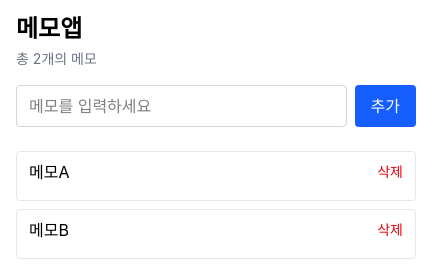
Test: App 한 번에 한 메모만 편집 › App should save the edited text of memo B when Enter is pressed after switching from memo A
The width and height of the screenshot is (433, 278).
Double-click the text "메모A": (49, 172) [29,160,70,184]
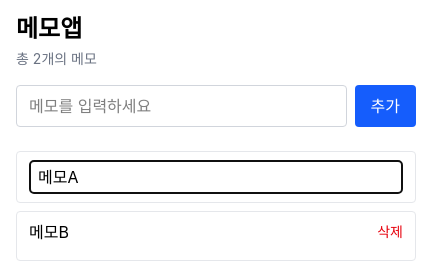
Double-click the text "메모B": (49, 232) [29,220,69,244]
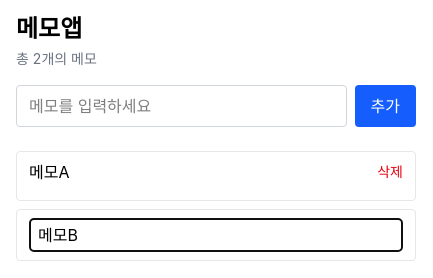
Replace the text in the field showing "메모B" with "고친B": (216, 235) [29,218,403,252]
Then press Enter
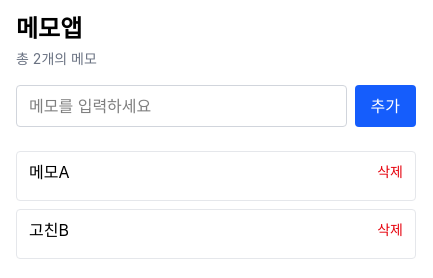
Expected: the text "고친B" is shown, [29,218,69,242]
